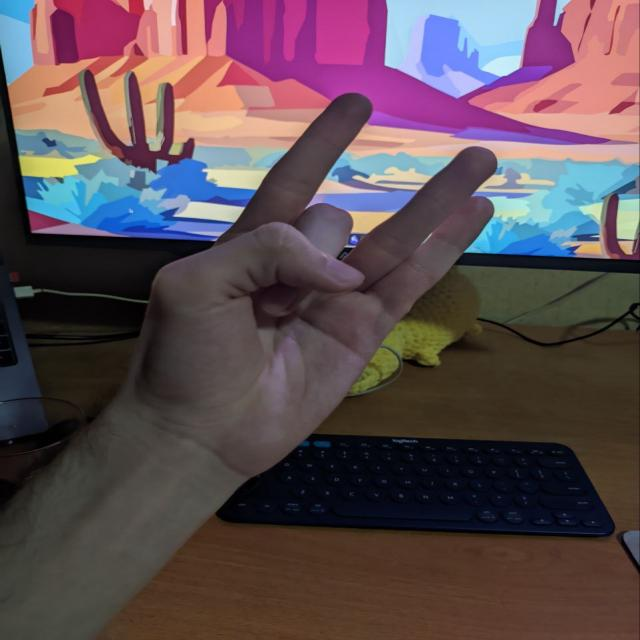r: (98, 80, 524, 487)
